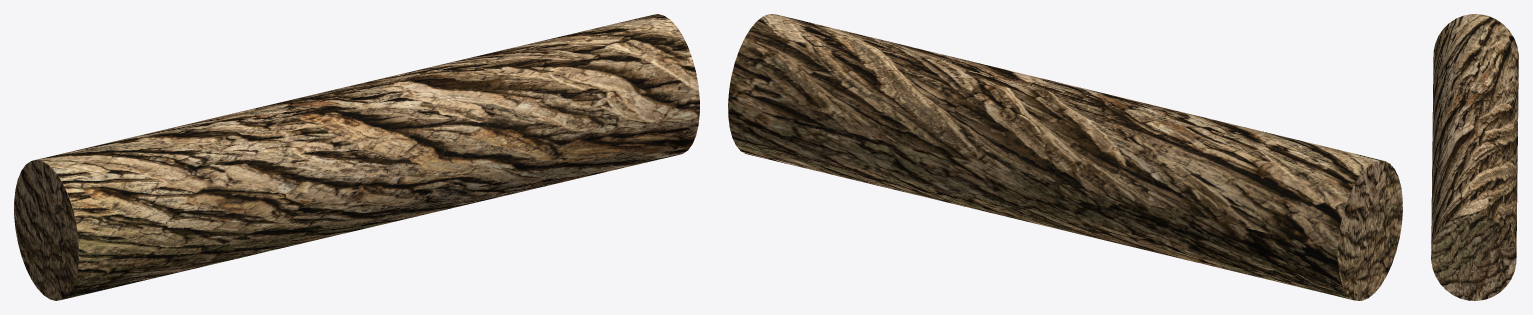
The model's file is Tronco2.fbx.
The picture shows the model from 3 angles, left to right: view 1: azimuth 30°, elevation 25°; view 2: azimuth 150°, elevation 25°; view 3: azimuth 270°, elevation 25°; orthographic projection. The views are drawn at different scales.
Visible parts, largest first — view 1: Tronco; view 2: Tronco; view 3: Tronco.
Part boxes in pixels (box(x1,y1,x2,y2)): Tronco: box(14, 14, 699, 300); Tronco: box(728, 14, 1402, 300); Tronco: box(1431, 14, 1518, 300).
Size of the model in its own units: 511 by 108 by 95.75.
